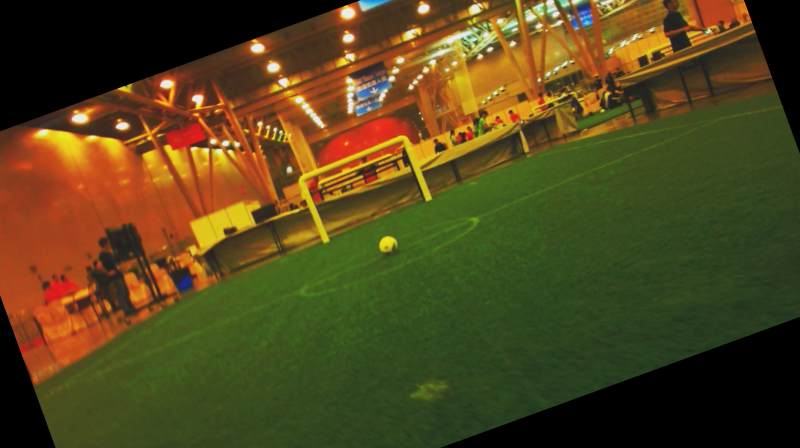post: (316, 228, 333, 249), (420, 188, 438, 206)
